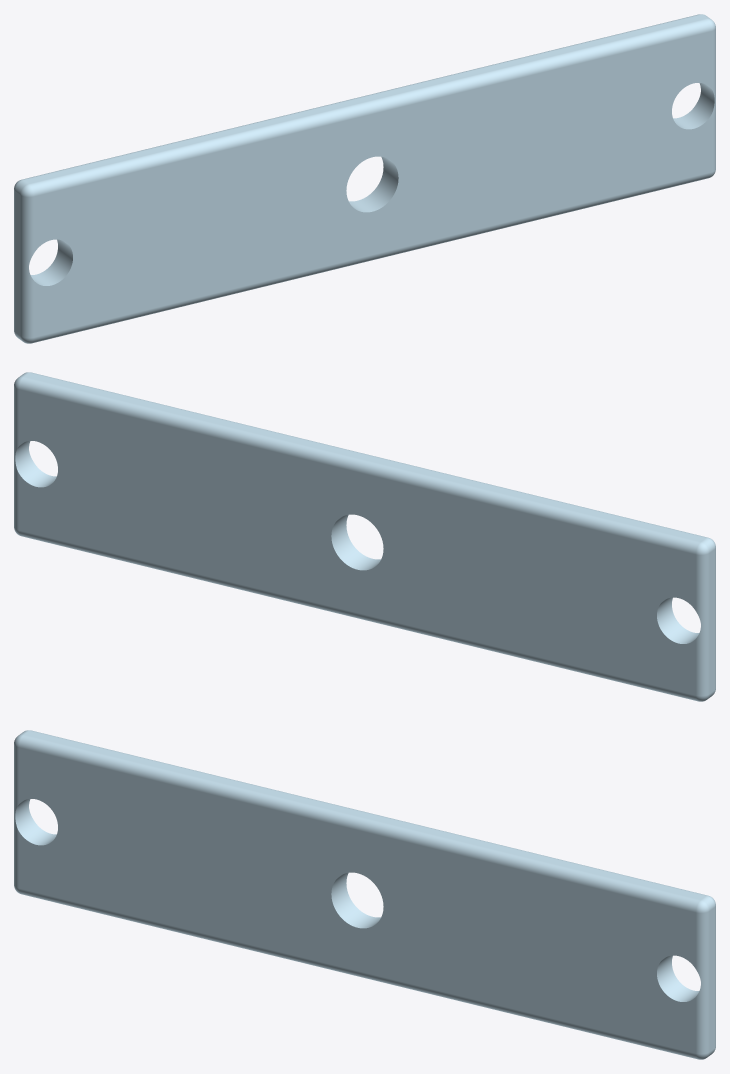
3 views of the same model, one above another, from view 1: azimuth 30°, elevation 25°; view 2: azimuth 150°, elevation 25°; view 3: azimuth 330°, elevation 25° (orthographic).
Parts seen in each view (by area): view 1: Part 1; view 2: Part 1; view 3: Part 1.
Part boxes in pixels (x1=…): Part 1: x1=14, y1=14, x2=715, y2=343; Part 1: x1=14, y1=372, x2=715, y2=701; Part 1: x1=14, y1=730, x2=715, y2=1059.
Bounding box in the file's own units: 0.16 × 0.035 × 0.006.
